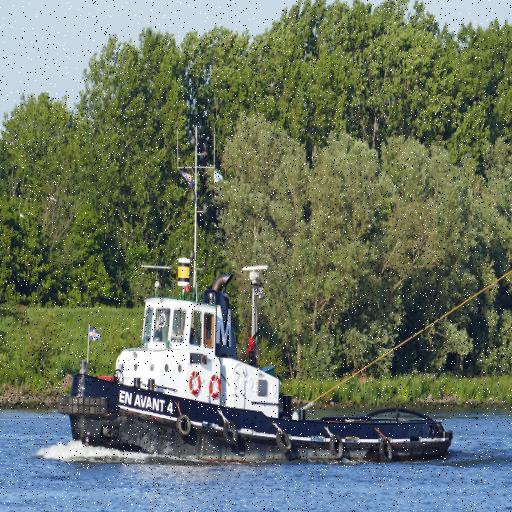tugboat: (58, 124, 456, 472)
